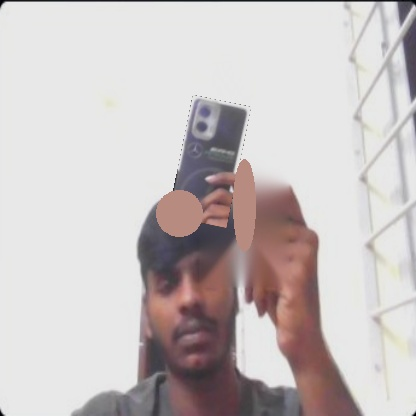cell_phone: (168, 95, 251, 228)
